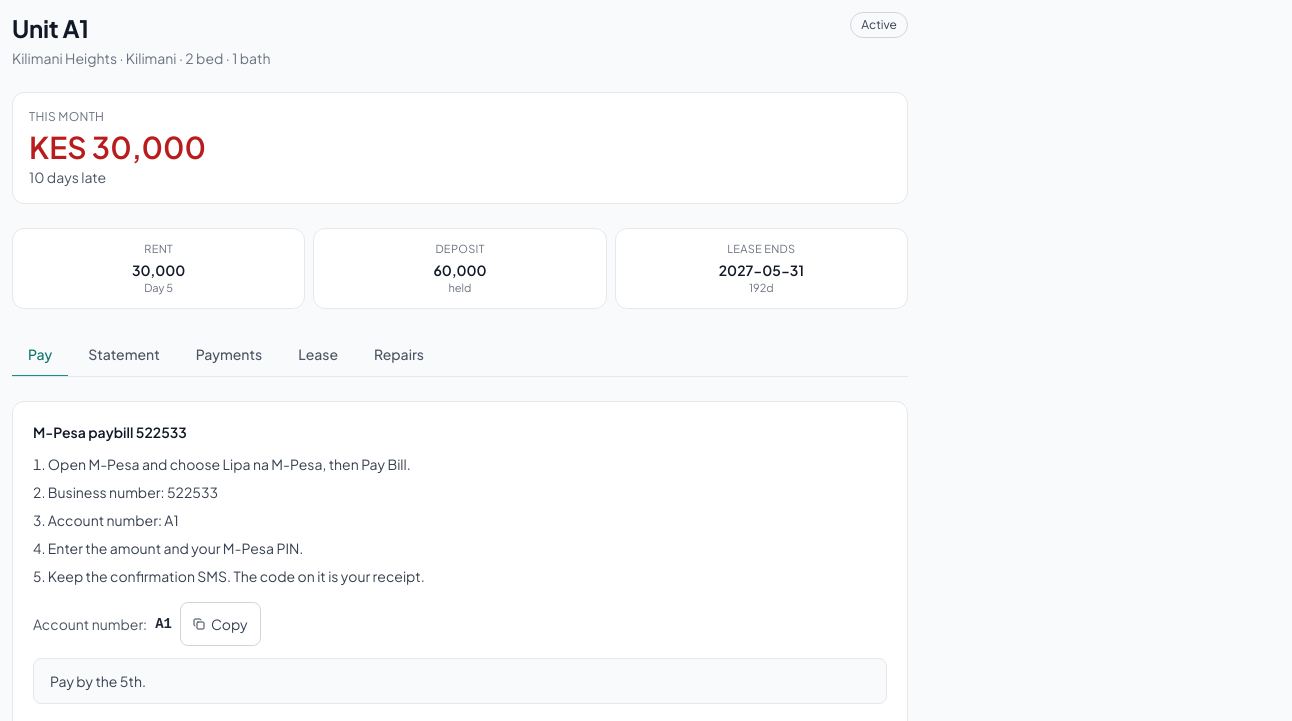
Test: the statement the tenant can read themselves › starts where the records start, not where the lease started
Click the tab "Statement".
click(124, 355)  # box [72, 333, 176, 377]
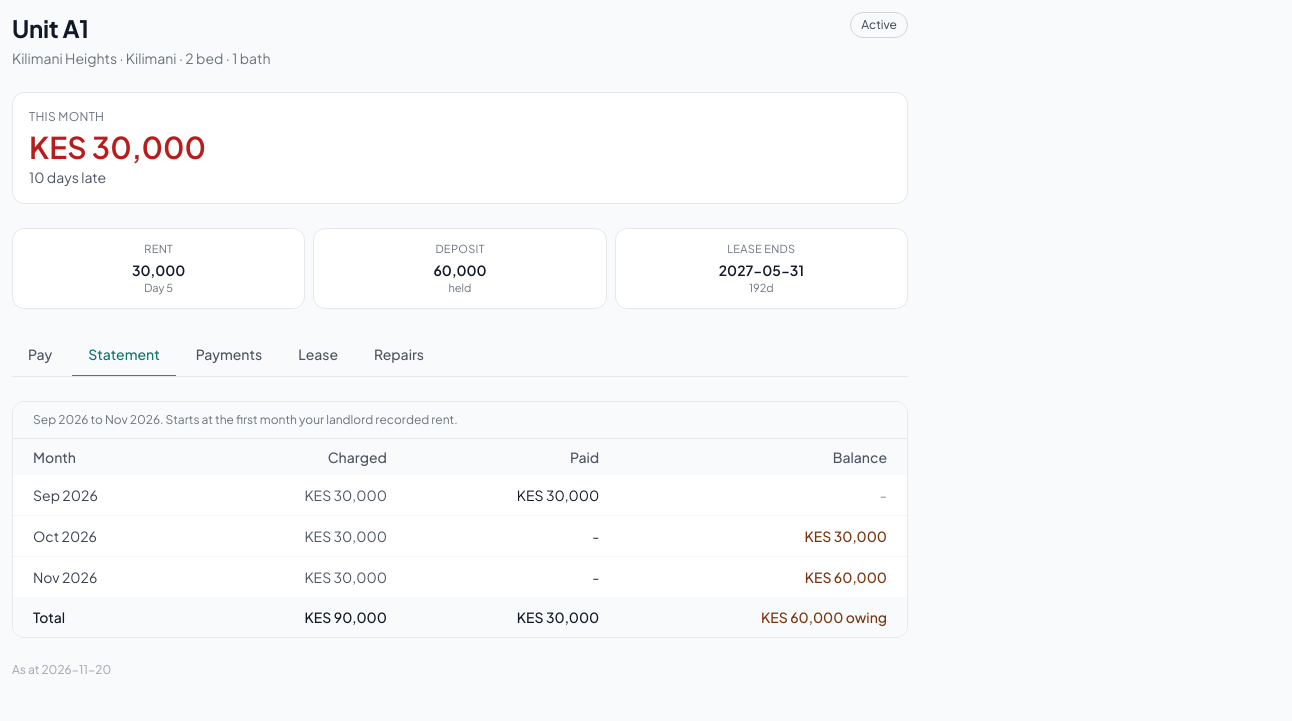
Expected: the text "Sep 2026 to Nov 2026" is shown, [13, 402, 907, 439]
